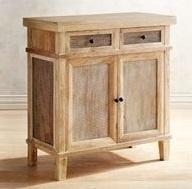cabinet_door: (64, 58, 117, 145), (117, 53, 162, 138), (66, 32, 116, 55), (120, 29, 164, 50)
handle: (88, 37, 95, 45), (139, 34, 146, 41), (119, 97, 124, 104), (113, 97, 118, 104)
